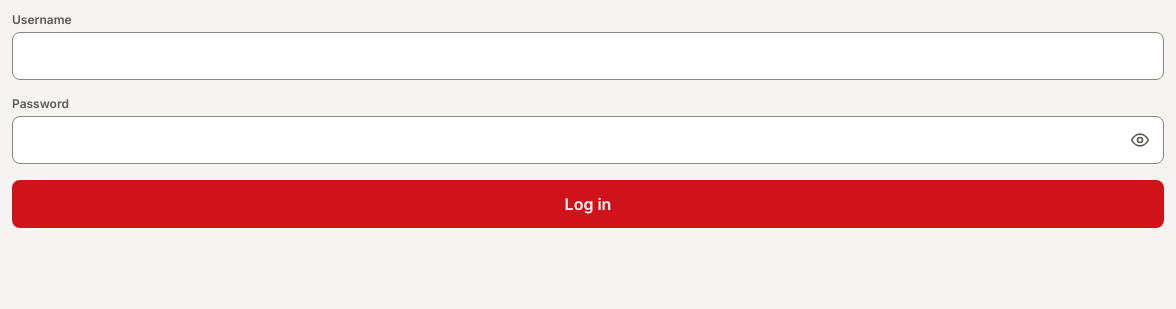
LoginForm › server errors › shows the server's message when there were too many attempts
This screenshot has width=1176, height=309.
Type "jonas.becker" into the field labelled "Username".
click(588, 56); type("jonas.becker")  # box [12,32,1164,80]
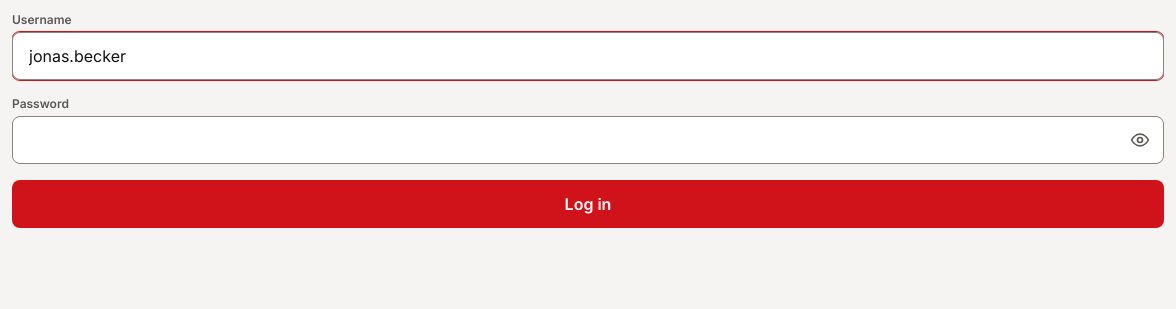
Type "13031998" into the password field labelled "Password".
click(588, 140); type("13031998")  # box [12,116,1164,164]
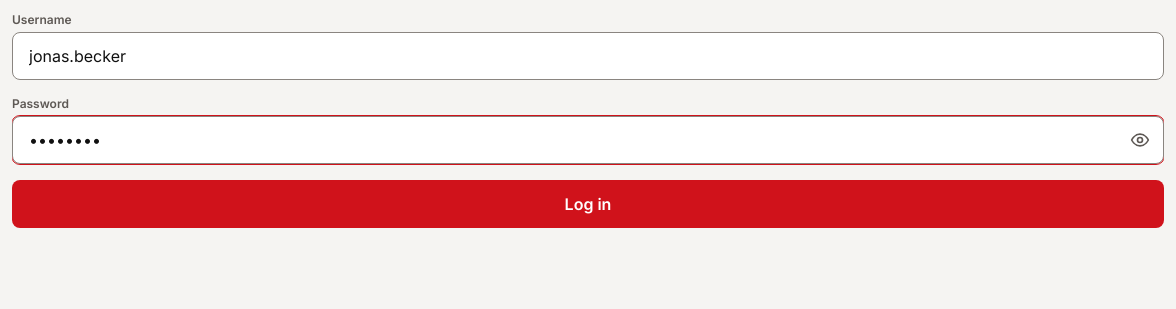
Click the button "Log in".
click(588, 204)  # box [12,180,1164,228]
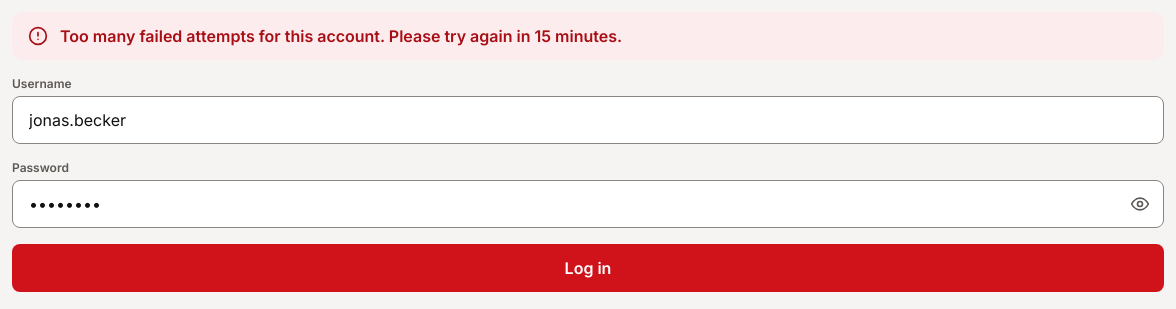
Result: the message reads "Too many failed attempts for this account. Please try again in 15 minutes." at [60,26,622,46]
